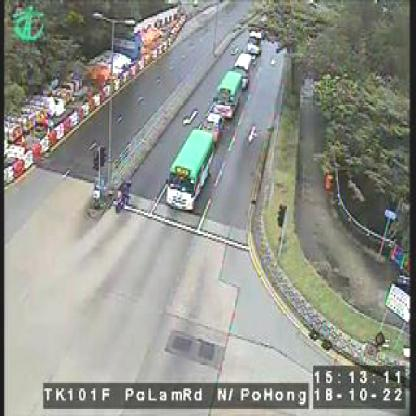Car: (199, 111, 226, 147), (232, 52, 255, 90), (244, 28, 264, 55)
Minibus: (164, 127, 214, 210), (213, 71, 243, 118)
